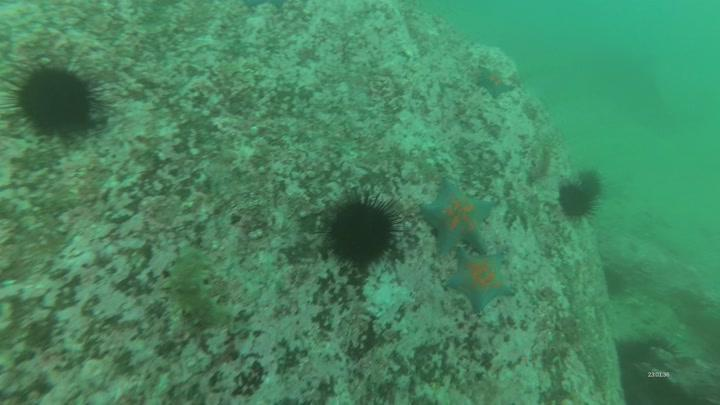urchin: (318, 197, 408, 272), (12, 59, 102, 129), (554, 187, 595, 223), (601, 262, 631, 295), (580, 172, 605, 196)
